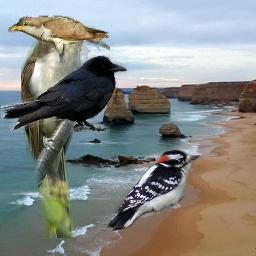Crow: (1, 55, 127, 132)
Cuckoo: (21, 14, 96, 238), (8, 15, 110, 63)
Woodpecker: (104, 150, 200, 231)
